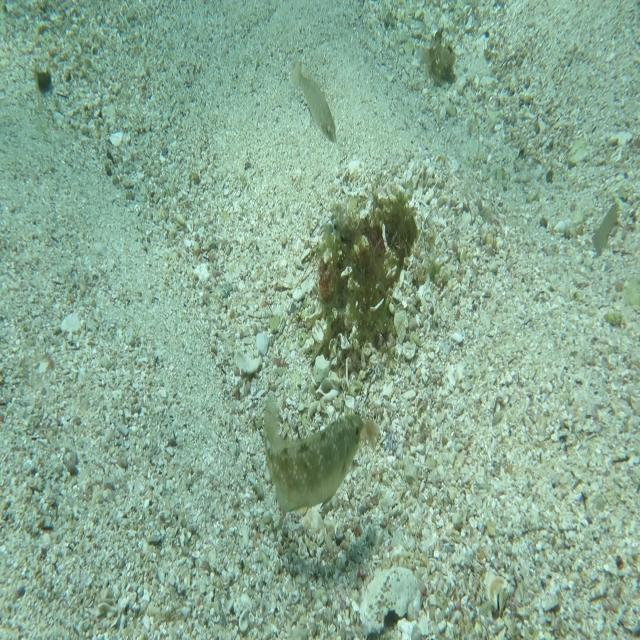AM: (265, 396, 366, 515)
core_nest: (365, 222, 414, 259)
female: (288, 58, 338, 145)
nest: (304, 181, 429, 376)
nest_material: (363, 415, 381, 452)
